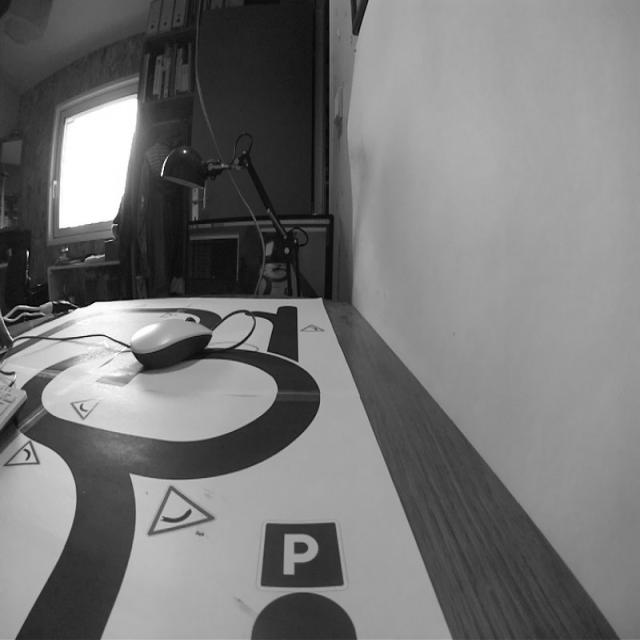Parking: (255, 514, 353, 600)
